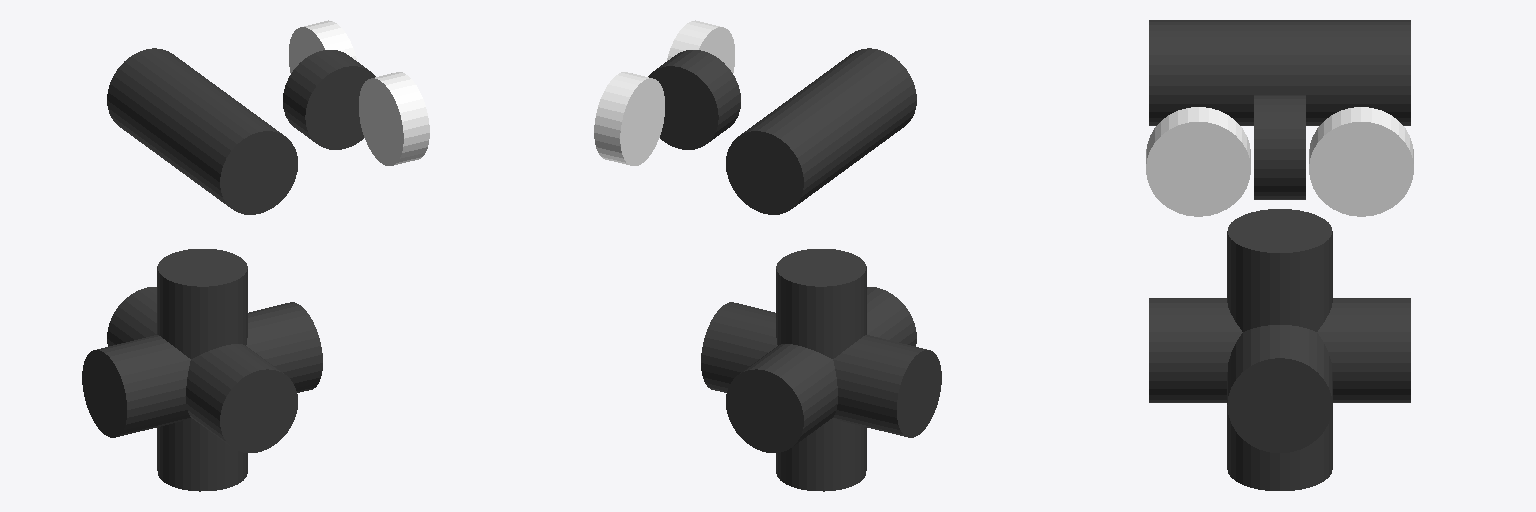
The robot description file, URDF, robot "Eddie":
<?xml version="1.0" ?>
<!-- =================================================================================== -->
<!-- |    This document was autogenerated by xacro from kit_head_on_torso.urdf.xacro   | -->
<!-- |    EDITING THIS FILE BY HAND IS NOT RECOMMENDED                                 | -->
<!-- =================================================================================== -->
<robot name="Eddie" xmlns:xacro="http://www.ros.org/wiki/xacro">
  <material name="KIT/White">
    <color rgba="1 1 1 1.0"/>
  </material>
  <material name="KIT/DarkGrey">
    <color rgba="0.3 0.3 0.3 1.0"/>
  </material>
  <material name="KIT/LightGrey">
    <color rgba="0.8 0.8 0.8 1.0"/>
  </material>
  <material name="KIT/Red">
    <color rgba="0.3 0.3 0.3 1.0"/>
  </material>
  <material name="KIT/Black">
    <color rgba="0 0 0 1.0"/>
  </material>
  <material name="KIT/Orange">
    <color rgba="1.0 0.487 0 1.0"/>
  </material>
  <material name="KIT/Silver">
    <color rgba="1.0 1.0 1.0 1.0"/>
  </material>
  <material name="KIT/Grey">
    <color rgba="0.7 0.7 0.7 1.0"/>
  </material>
  <material name="KIT/Blue">
    <color rgba="0.0 0.0 0.8 1.0"/>
  </material>
  <material name="KIT/HandGray">
    <color rgba="0.953 0.996 0.694 1.0"/>
  </material>
  <material name="KIT/SickBlue">
    <color rgba="0.3058 0.5921 0.7294 1.0"/>
  </material>
  <link name="world_link"/>
  <joint name="world_torso_base_joint" type="fixed">
    <origin xyz="-0.4723 0.6767 -0.734"/>
    <parent link="world_link"/>
    <child link="torso_link"/>
  </joint>
  <link name="torso_link">
    <visual>
      <geometry>
        <mesh filename="package://torso_uibk/meshes/torso.stl"/>
      </geometry>
      <material name="Silver"/>
    </visual>
    <collision>
      <geometry>
        <mesh filename="package://torso_uibk/meshes/torso.stl"/>
      </geometry>
    </collision>
  </link>
  <joint name="world_head_base_joint" type="fixed">
    <origin xyz="-0.4723 0.6767 1.0"/>
    <parent link="world_link"/>
    <child link="calib_head_base_link"/>
  </joint>
  <link name="calib_head_base_link"/>
  <joint name="head_neck_pitch_joint" type="revolute">
    <origin rpy="-1.57079632679 0 0" xyz="0 0 0"/>
    <axis xyz="0 0 1"/>
    <limit effort="204" lower="-0.575958653158" upper="0.575958653158" velocity="3.14159265359"/>
    <safety_controller k_position="30" k_velocity="30" soft_lower_limit="-0.575958653158" soft_upper_limit="0.575958653158"/>
    <dynamics damping="1.0"/>
    <parent link="calib_head_base_link"/>
    <child link="head_head_1_link"/>
  </joint>
  <link name="head_head_1_link">
    <visual>
      <origin rpy="0 0 0" xyz="0 0 0"/>
      <geometry>
        <cylinder length="0.15" radius="0.03"/>
      </geometry>
      <material name="KIT/DarkGrey"/>
    </visual>
    <collision>
      <origin rpy="0 0 0" xyz="0 0 0"/>
      <geometry>
        <cylinder length="0.15" radius="0.03"/>
      </geometry>
    </collision>
  </link>
  <joint name="head_neck_roll_joint" type="revolute">
    <origin rpy="0 1.57079632679 0" xyz="0 0 0"/>
    <axis xyz="0 0 1"/>
    <limit effort="204" lower="-0.488692190558" upper="0.488692190558" velocity="3.14159265359"/>
    <safety_controller k_position="30" k_velocity="30" soft_lower_limit="-0.488692190558" soft_upper_limit="0.488692190558"/>
    <dynamics damping="1.0"/>
    <parent link="head_head_1_link"/>
    <child link="head_head_2_link"/>
  </joint>
  <link name="head_head_2_link">
    <visual>
      <origin rpy="0 0 0" xyz="0 0 0"/>
      <geometry>
        <cylinder length="0.15" radius="0.03"/>
      </geometry>
      <material name="KIT/DarkGrey"/>
    </visual>
    <collision>
      <origin rpy="0 0 0" xyz="0 0 0"/>
      <geometry>
        <cylinder length="0.15" radius="0.03"/>
      </geometry>
    </collision>
  </link>
  <joint name="head_neck_yaw_joint" type="revolute">
    <origin rpy="-1.57079632679 -1.57079632679 0" xyz="0 0 0"/>
    <axis xyz="0 0 1"/>
    <limit effort="204" lower="-1.98967534727" upper="1.98967534727" velocity="3.14159265359"/>
    <safety_controller k_position="30" k_velocity="30" soft_lower_limit="-1.98967534727" soft_upper_limit="1.98967534727"/>
    <dynamics damping="1.0"/>
    <parent link="head_head_2_link"/>
    <child link="head_head_3_link"/>
  </joint>
  <link name="head_head_3_link">
    <visual>
      <origin rpy="0 0 0" xyz="0 0 0"/>
      <geometry>
        <cylinder length="0.15" radius="0.03"/>
      </geometry>
      <material name="KIT/DarkGrey"/>
    </visual>
    <collision>
      <origin rpy="0 0 0" xyz="0 0 0"/>
      <geometry>
        <cylinder length="0.15" radius="0.03"/>
      </geometry>
    </collision>
  </link>
  <joint name="head_head_tilt_joint" type="revolute">
    <origin rpy="1.57079632679 0 0" xyz="0 0 -0.1745"/>
    <axis xyz="0 0 1"/>
    <limit effort="204" lower="-0.698131700798" upper="0.698131700798" velocity="3.14159265359"/>
    <safety_controller k_position="30" k_velocity="30" soft_lower_limit="-0.698131700798" soft_upper_limit="0.698131700798"/>
    <dynamics damping="1.0"/>
    <parent link="head_head_3_link"/>
    <child link="head_head_4_link"/>
  </joint>
  <link name="head_head_4_link">
    <visual>
      <origin rpy="0 0 0" xyz="0 0 0"/>
      <geometry>
        <cylinder length="0.15" radius="0.03"/>
      </geometry>
      <material name="KIT/DarkGrey"/>
    </visual>
    <collision>
      <origin rpy="0 0 0" xyz="0 0 0"/>
      <geometry>
        <cylinder length="0.15" radius="0.03"/>
      </geometry>
    </collision>
  </link>
  <joint name="head_eyes_tilt_joint" type="revolute">
    <origin rpy="0 0 0" xyz="0.1 0 0"/>
    <axis xyz="0 0 1"/>
    <limit effort="204" lower="-0.349065850399" upper="0.349065850399" velocity="3.14159265359"/>
    <safety_controller k_position="30" k_velocity="30" soft_lower_limit="-0.349065850399" soft_upper_limit="0.349065850399"/>
    <dynamics damping="1.0"/>
    <parent link="head_head_4_link"/>
    <child link="head_head_5_link"/>
  </joint>
  <link name="head_head_5_link">
    <visual>
      <origin rpy="0 0 0" xyz="0 0 0"/>
      <geometry>
        <cylinder length="0.03" radius="0.03"/>
      </geometry>
      <material name="KIT/DarkGrey"/>
    </visual>
    <collision>
      <origin rpy="1.57079632679 0 0" xyz="0 0.18 0"/>
      <geometry>
        <cylinder length="0.4" radius="0.15"/>
      </geometry>
    </collision>
  </link>
  <joint name="head_left_eye_joint" type="revolute">
    <origin rpy="1.57079632679 0 0" xyz="0 0 0.0465"/>
    <axis xyz="0 0 1"/>
    <limit effort="204" lower="-0.349065850399" upper="0.349065850399" velocity="3.14159265359"/>
    <safety_controller k_position="30" k_velocity="30" soft_lower_limit="-0.349065850399" soft_upper_limit="0.349065850399"/>
    <dynamics damping="1.0"/>
    <parent link="head_head_5_link"/>
    <child link="head_left_eye_link"/>
  </joint>
  <link name="head_left_eye_link">
    <visual>
      <origin rpy="0 1.57079632679 0" xyz="0.02 0 0"/>
      <geometry>
        <cylinder length="0.02" radius="0.03"/>
      </geometry>
      <material name="KIT/White"/>
    </visual>
    <collision>
      <origin rpy="0 0 0" xyz="0.02 0 0"/>
      <geometry>
        <cylinder length="0.02" radius="0.03"/>
      </geometry>
    </collision>
  </link>
  <joint name="head_right_eye_joint" type="revolute">
    <origin rpy="1.57079632679 0 0" xyz="0 0 -0.0465"/>
    <axis xyz="0 0 1"/>
    <limit effort="204" lower="-0.349065850399" upper="0.349065850399" velocity="3.14159265359"/>
    <safety_controller k_position="30" k_velocity="30" soft_lower_limit="-0.349065850399" soft_upper_limit="0.349065850399"/>
    <dynamics damping="1.0"/>
    <parent link="head_head_5_link"/>
    <child link="head_right_eye_link"/>
  </joint>
  <link name="head_right_eye_link">
    <visual>
      <origin rpy="0 1.57079632679 0" xyz="0.02 0 0"/>
      <geometry>
        <cylinder length="0.02" radius="0.03"/>
      </geometry>
      <material name="KIT/White"/>
    </visual>
    <collision>
      <origin rpy="0 0 0" xyz="0.02 0 0"/>
      <geometry>
        <cylinder length="0.02" radius="0.03"/>
      </geometry>
    </collision>
  </link>
</robot>

--- What the picture shows (computed from the rendered views, not written in the file) ---
3 views of the same robot in one strip: view 1: azimuth 30°, elevation 25°; view 2: azimuth 150°, elevation 25°; view 3: azimuth 270°, elevation 25° (orthographic).
Model Eddie with 10 links and 9 joints (7 revolute, 2 fixed), rooted at world_link, posed every joint at zero.
Links seen in each view (by area): view 1: head_head_4_link, head_head_3_link, head_head_2_link, head_head_1_link, head_head_5_link, head_right_eye_link, head_left_eye_link; view 2: head_head_4_link, head_head_3_link, head_head_2_link, head_head_1_link, head_head_5_link, head_left_eye_link, head_right_eye_link; view 3: head_head_4_link, head_head_1_link, head_head_3_link, head_head_2_link, head_left_eye_link, head_right_eye_link, head_head_5_link.
Link boxes in pixels (x1,y1,x2,y2): head_head_4_link: (107, 48, 297, 214); head_head_3_link: (157, 249, 247, 491); head_head_2_link: (82, 302, 322, 437); head_head_1_link: (107, 287, 297, 452); head_head_5_link: (283, 50, 375, 149); head_right_eye_link: (359, 72, 429, 165); head_left_eye_link: (289, 20, 356, 72); head_head_4_link: (726, 48, 916, 214); head_head_3_link: (776, 249, 866, 491); head_head_2_link: (701, 302, 941, 437); head_head_1_link: (726, 287, 916, 452); head_head_5_link: (648, 50, 740, 149); head_left_eye_link: (594, 72, 664, 165); head_right_eye_link: (667, 20, 734, 72); head_head_4_link: (1149, 20, 1410, 125); head_head_1_link: (1149, 298, 1410, 402); head_head_3_link: (1227, 209, 1332, 490); head_head_2_link: (1227, 325, 1332, 452); head_left_eye_link: (1309, 107, 1413, 216); head_right_eye_link: (1146, 107, 1250, 216); head_head_5_link: (1254, 95, 1305, 199).
Size in the robot's own frame: 0.205 by 0.153 by 0.2795 metres.
0 mesh visuals loaded from 1 distinct referenced files (none loaded); not drawn: 1 (reference not matched to a file when rendering).
